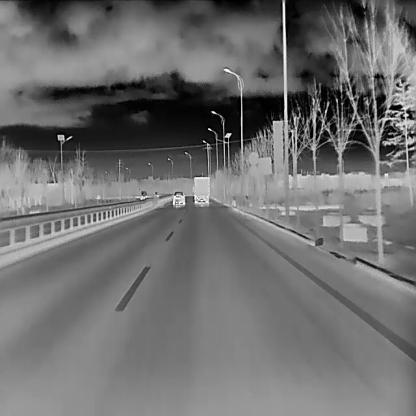car: (192, 176, 210, 205), (172, 190, 186, 205), (139, 190, 147, 200)
